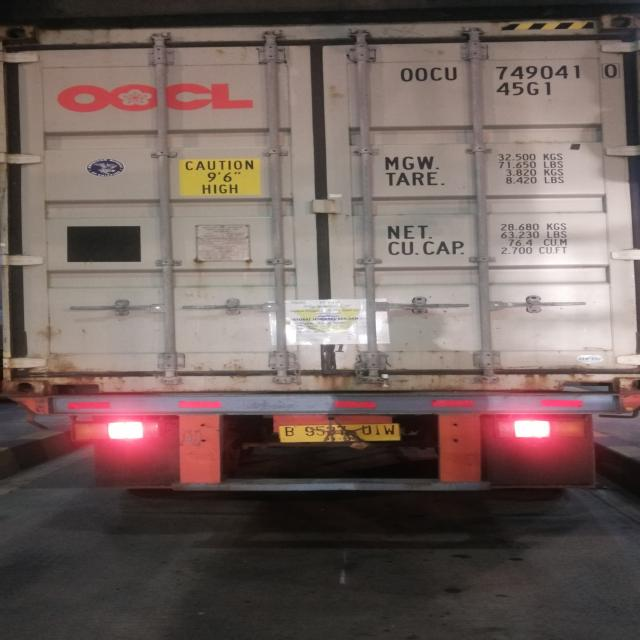seal: (380, 372, 391, 387)
